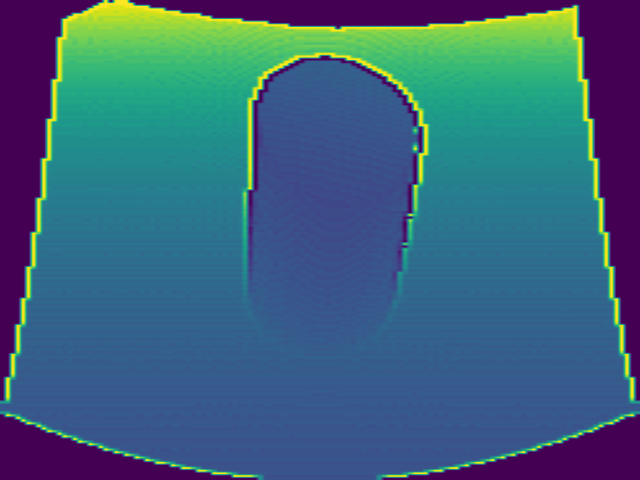cylinder: (243, 52, 427, 359)
